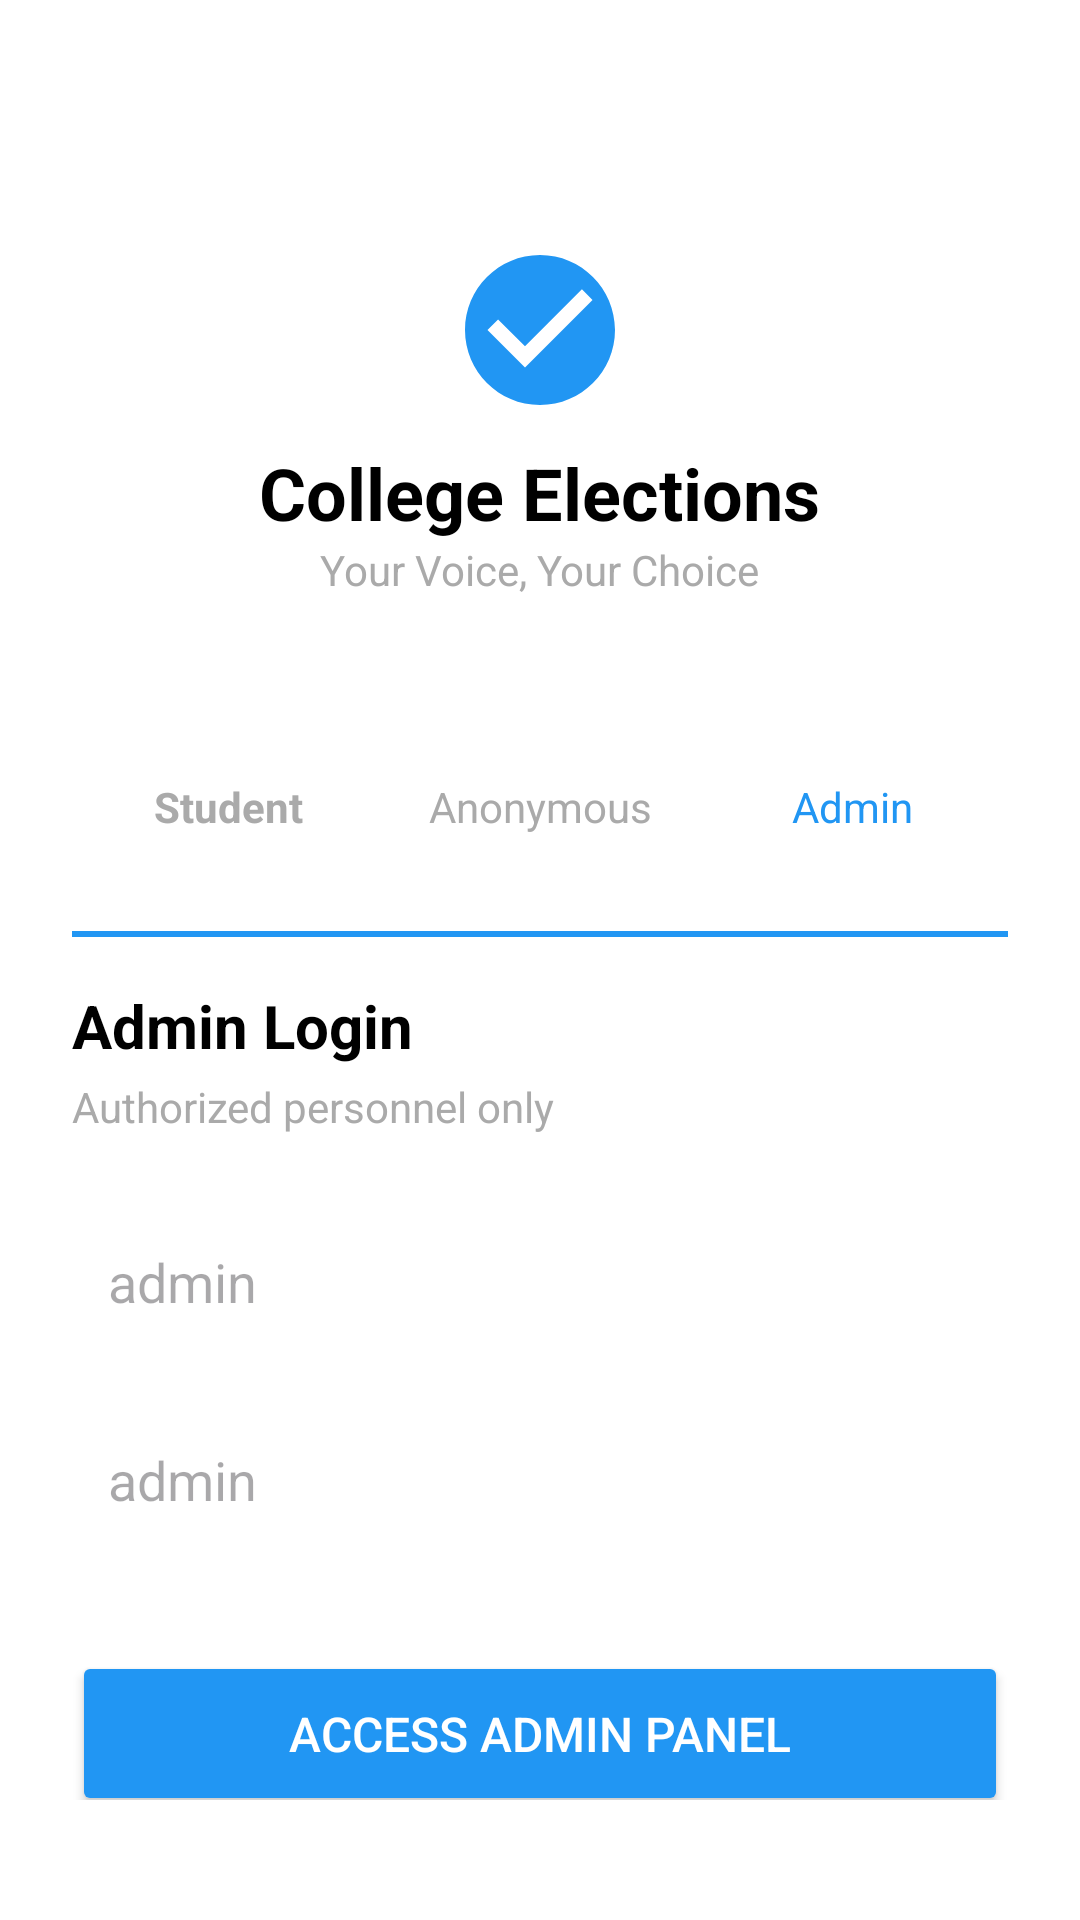

Where icons sit on this 1080px x 1920px app screen, as (x1, y1, x2, y2):
check circle: (465, 255, 615, 405)
